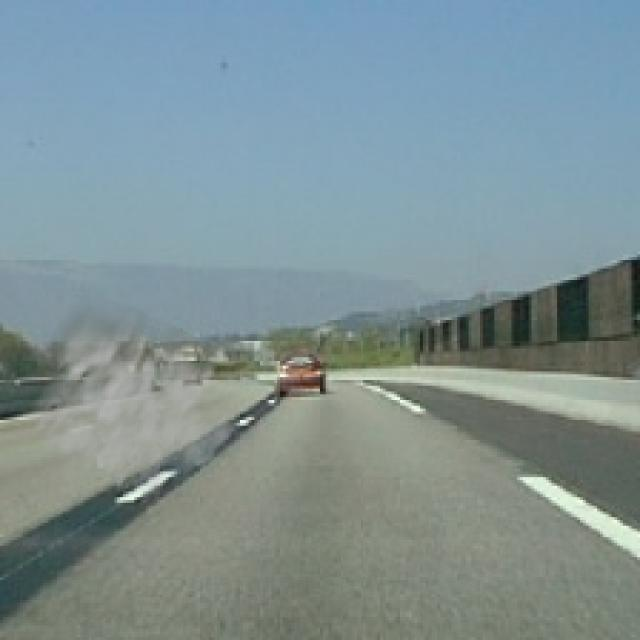Smoke: (17, 288, 249, 506)
